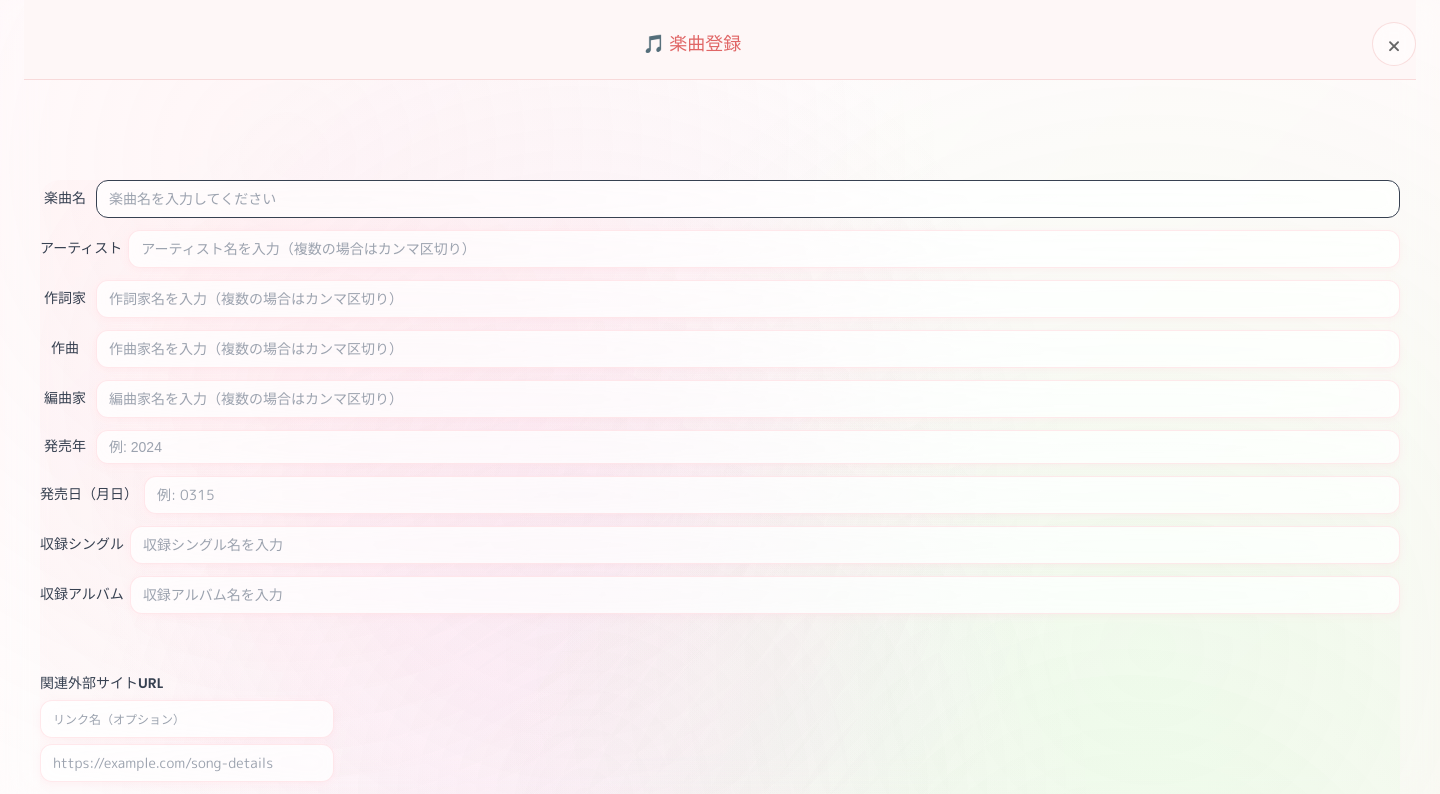
SongRegistrationForm › form submission › should show success message after successful submission
Step 1. Type "テスト楽曲" into the field labelled "楽曲名" → {"x": 748, "y": 199}, box 96,180 -> 1400,218
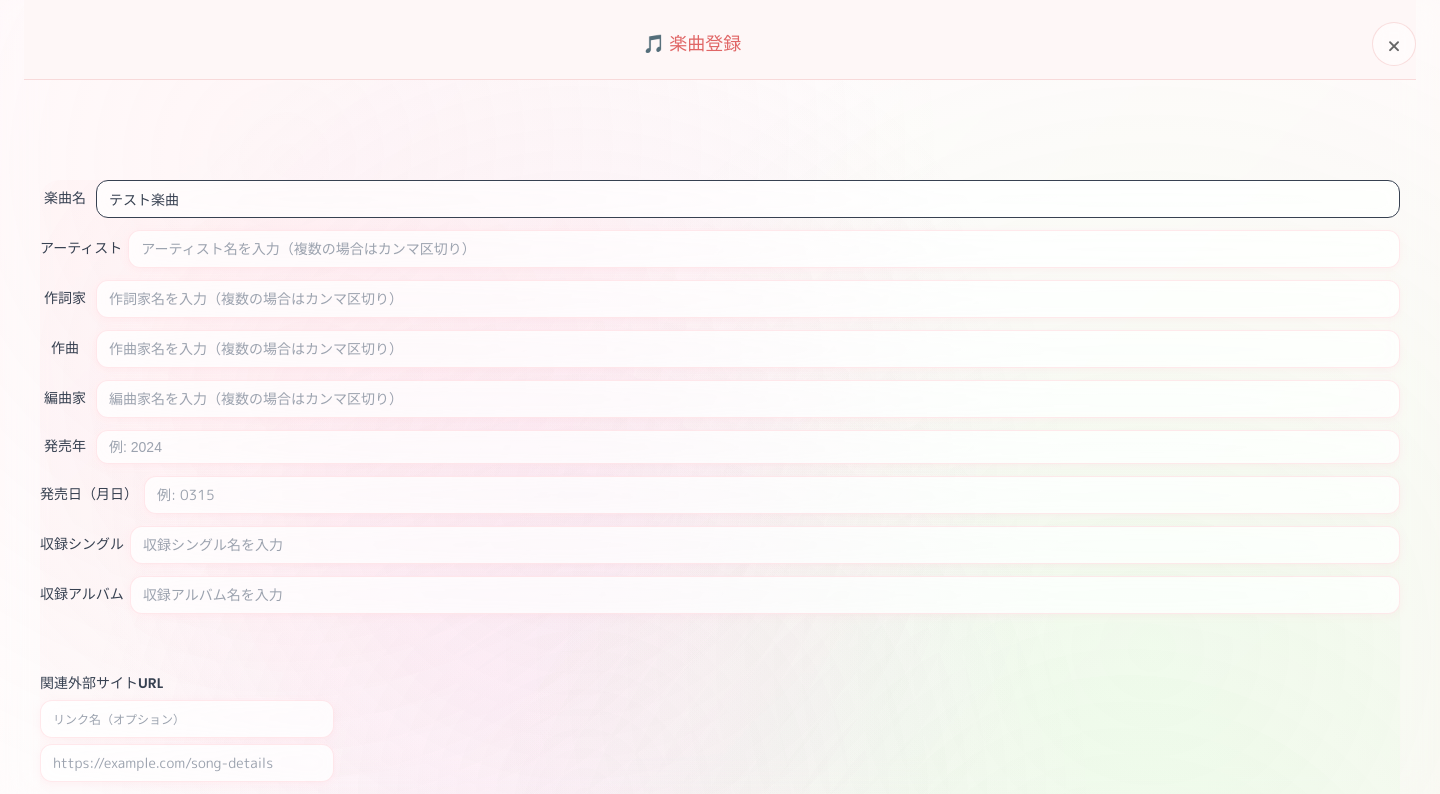
Step 2. Type "作詞家A" into the field labelled "作詞家" → {"x": 748, "y": 299}, box 96,280 -> 1400,318
(page scrolled)
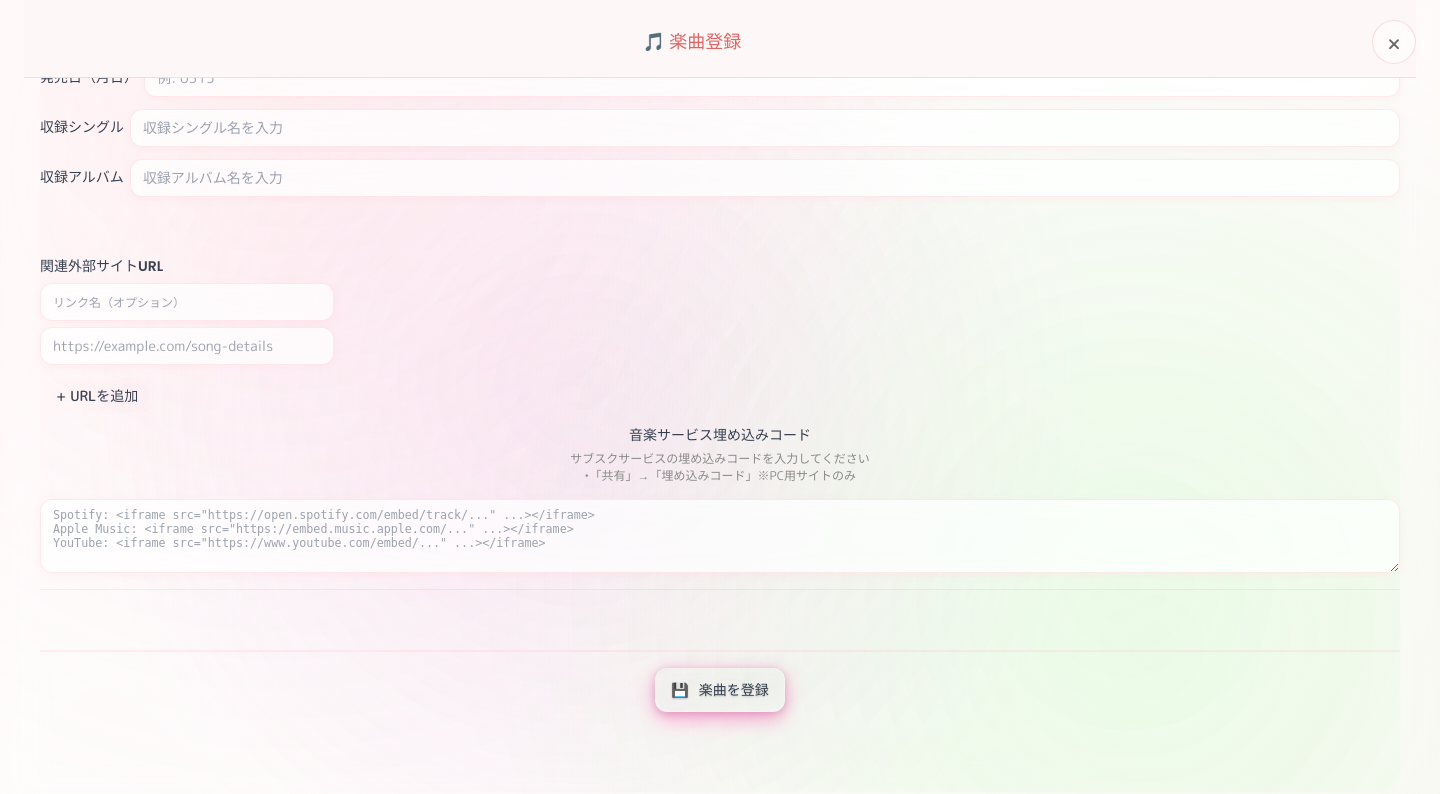
Step 3. Click the button "楽曲を登録" → {"x": 720, "y": 690}, box 655,668 -> 785,712
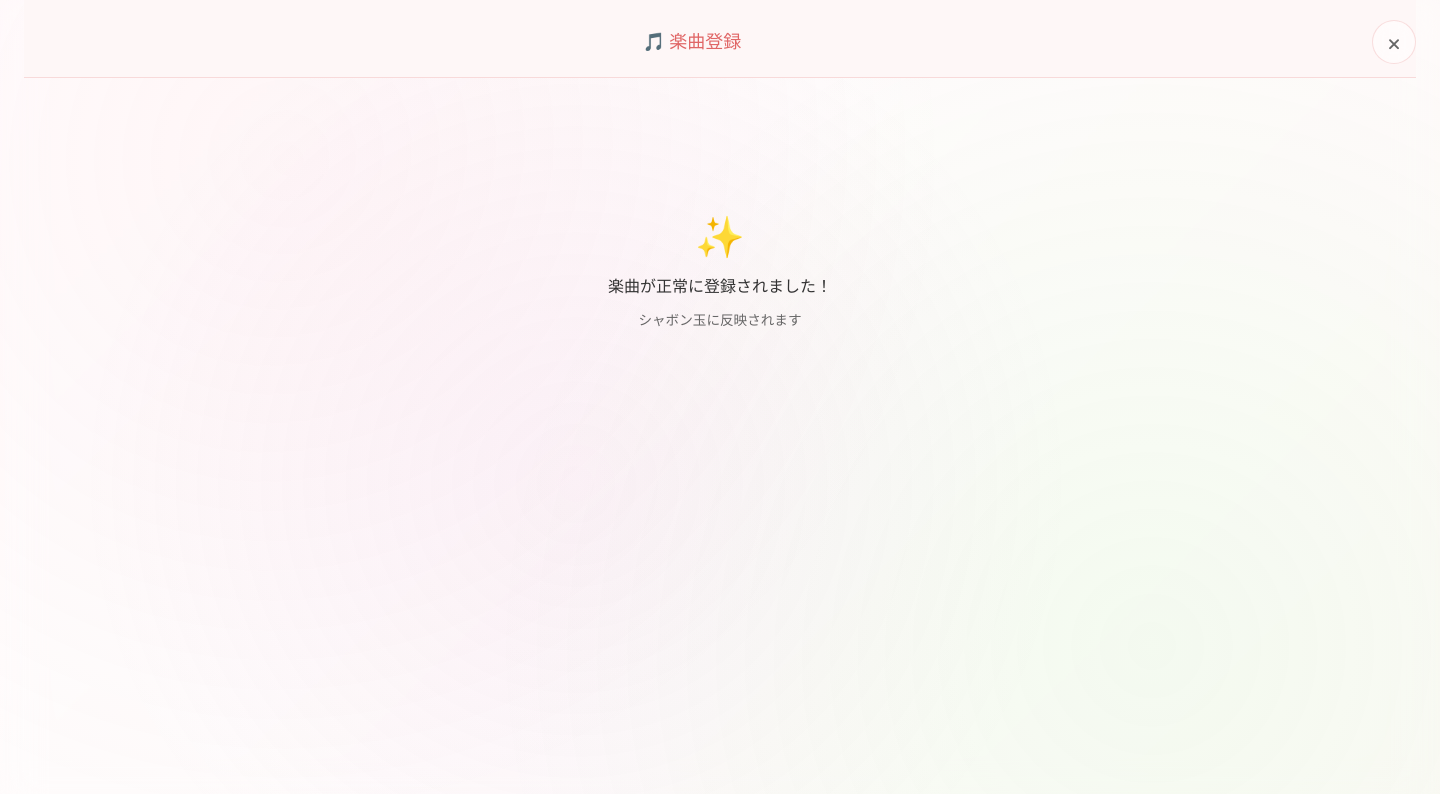
Check: the text "楽曲が正常に登録されました！" is shown, box 608,276 -> 832,298
